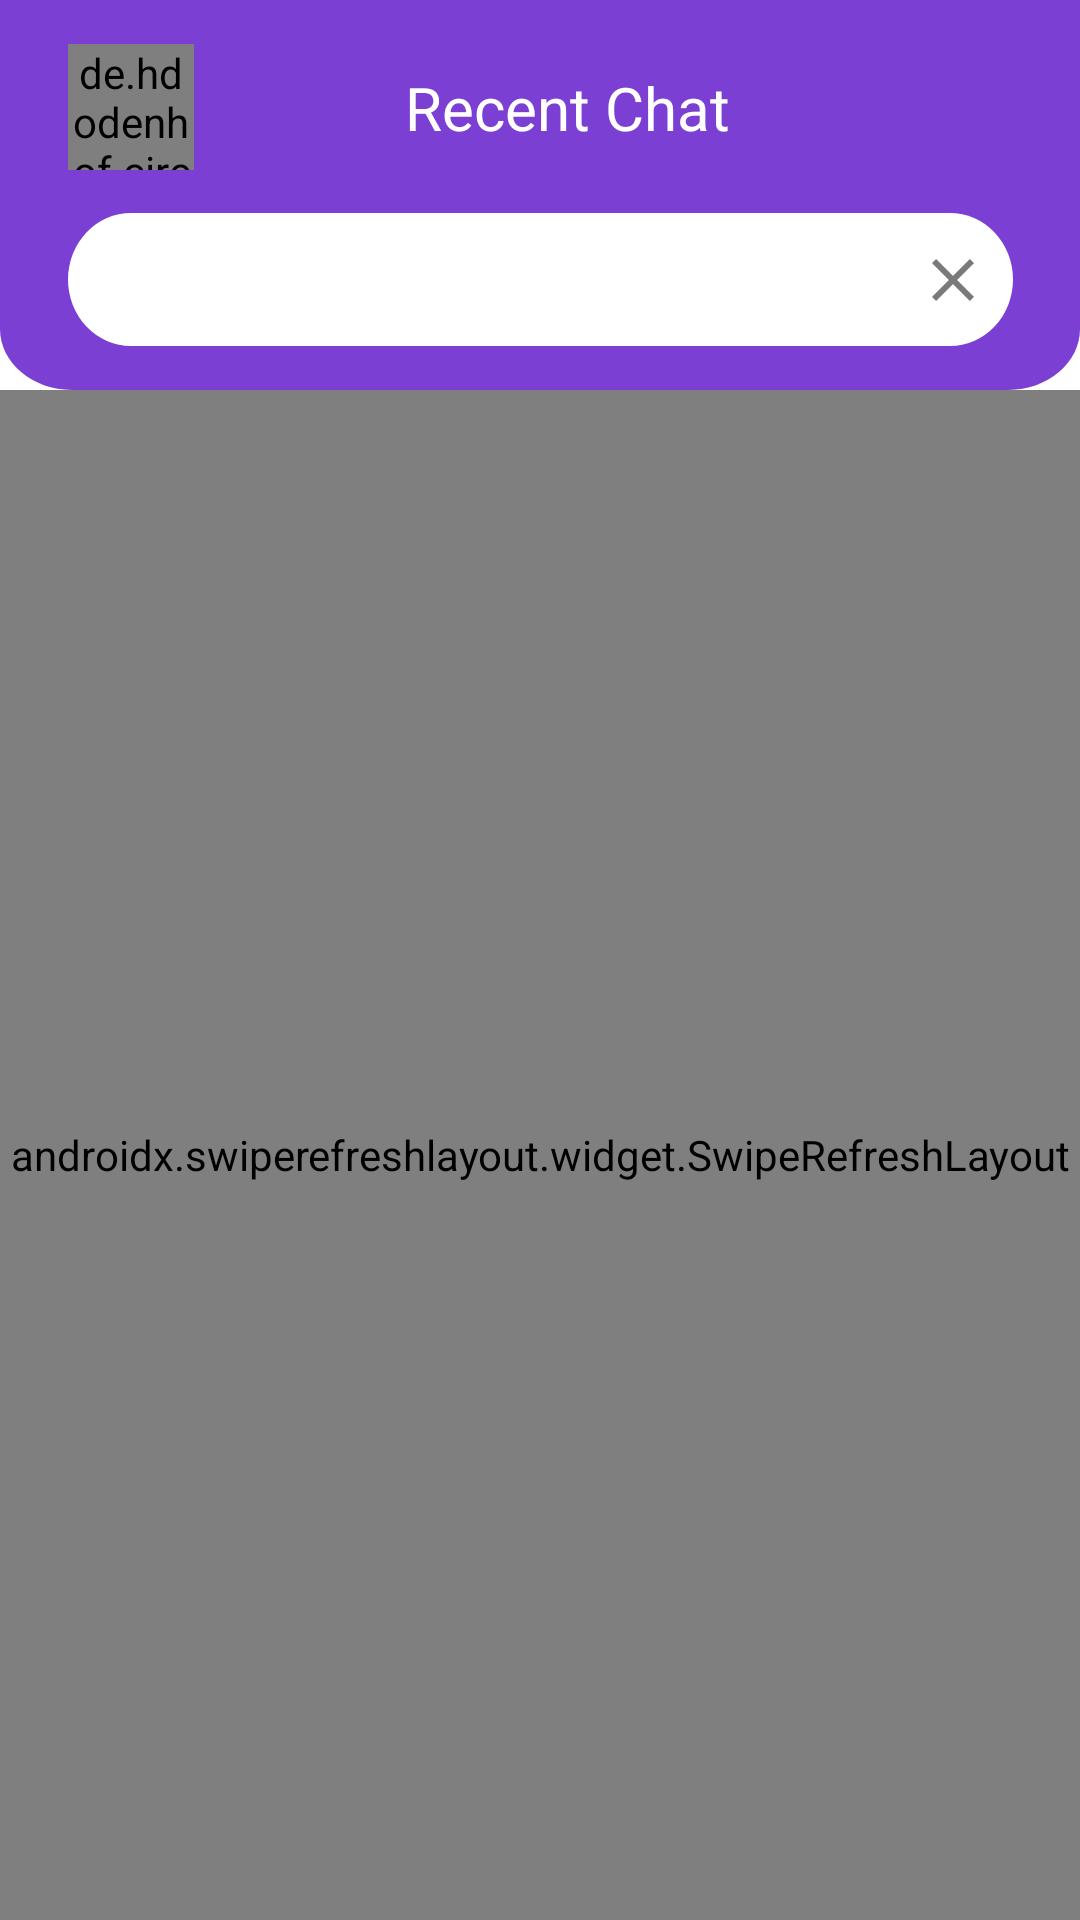

Where to tap for icons on this 1080px×1920px app screen, as (x=x, y=y):
close: (x=953, y=280)
